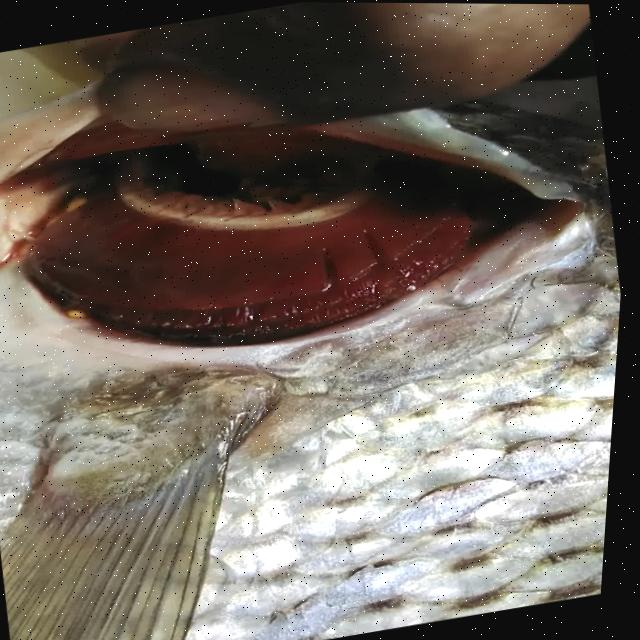Fresh: (0, 69, 636, 419)
